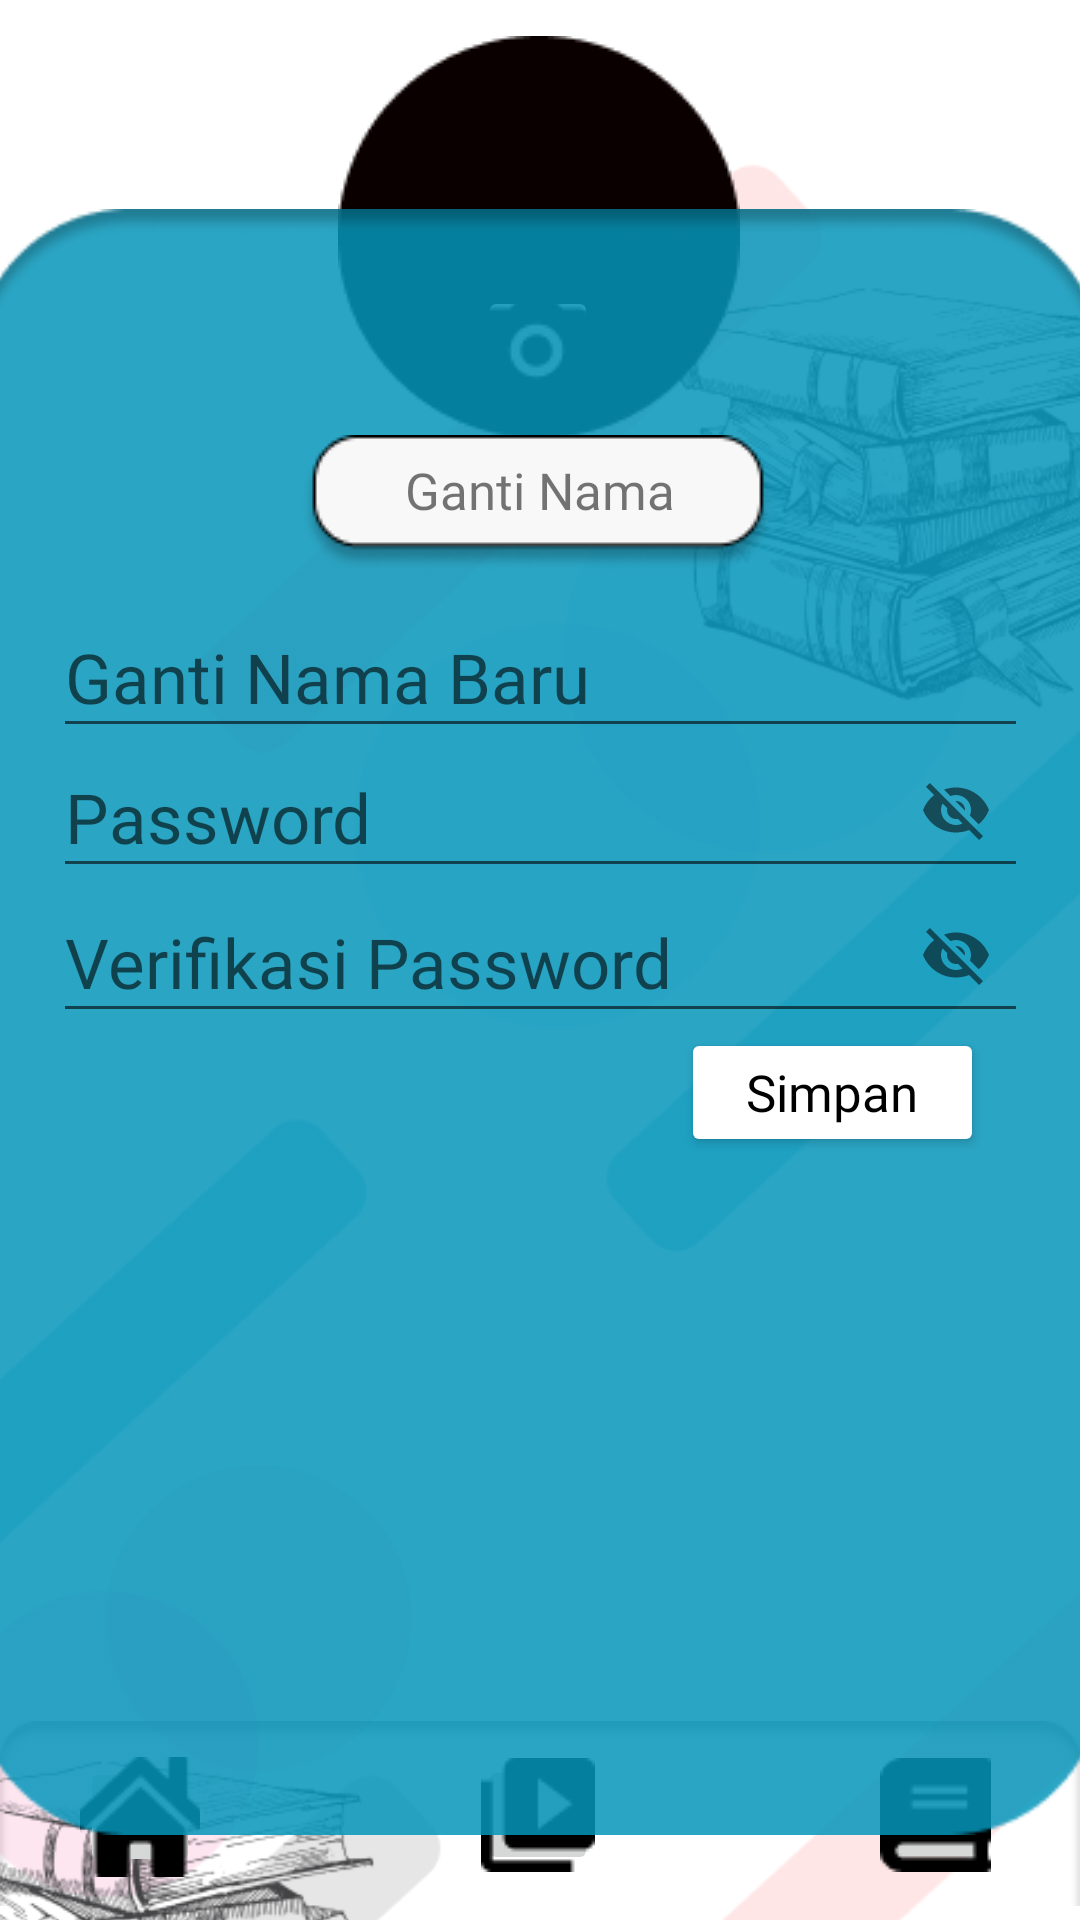

Screen size 1080px x 1920px. Icon name, then its center in pixels as (x=x, y=y):
ebook: (x=935, y=1815)
home: (x=140, y=1817)
video: (x=538, y=1815)
